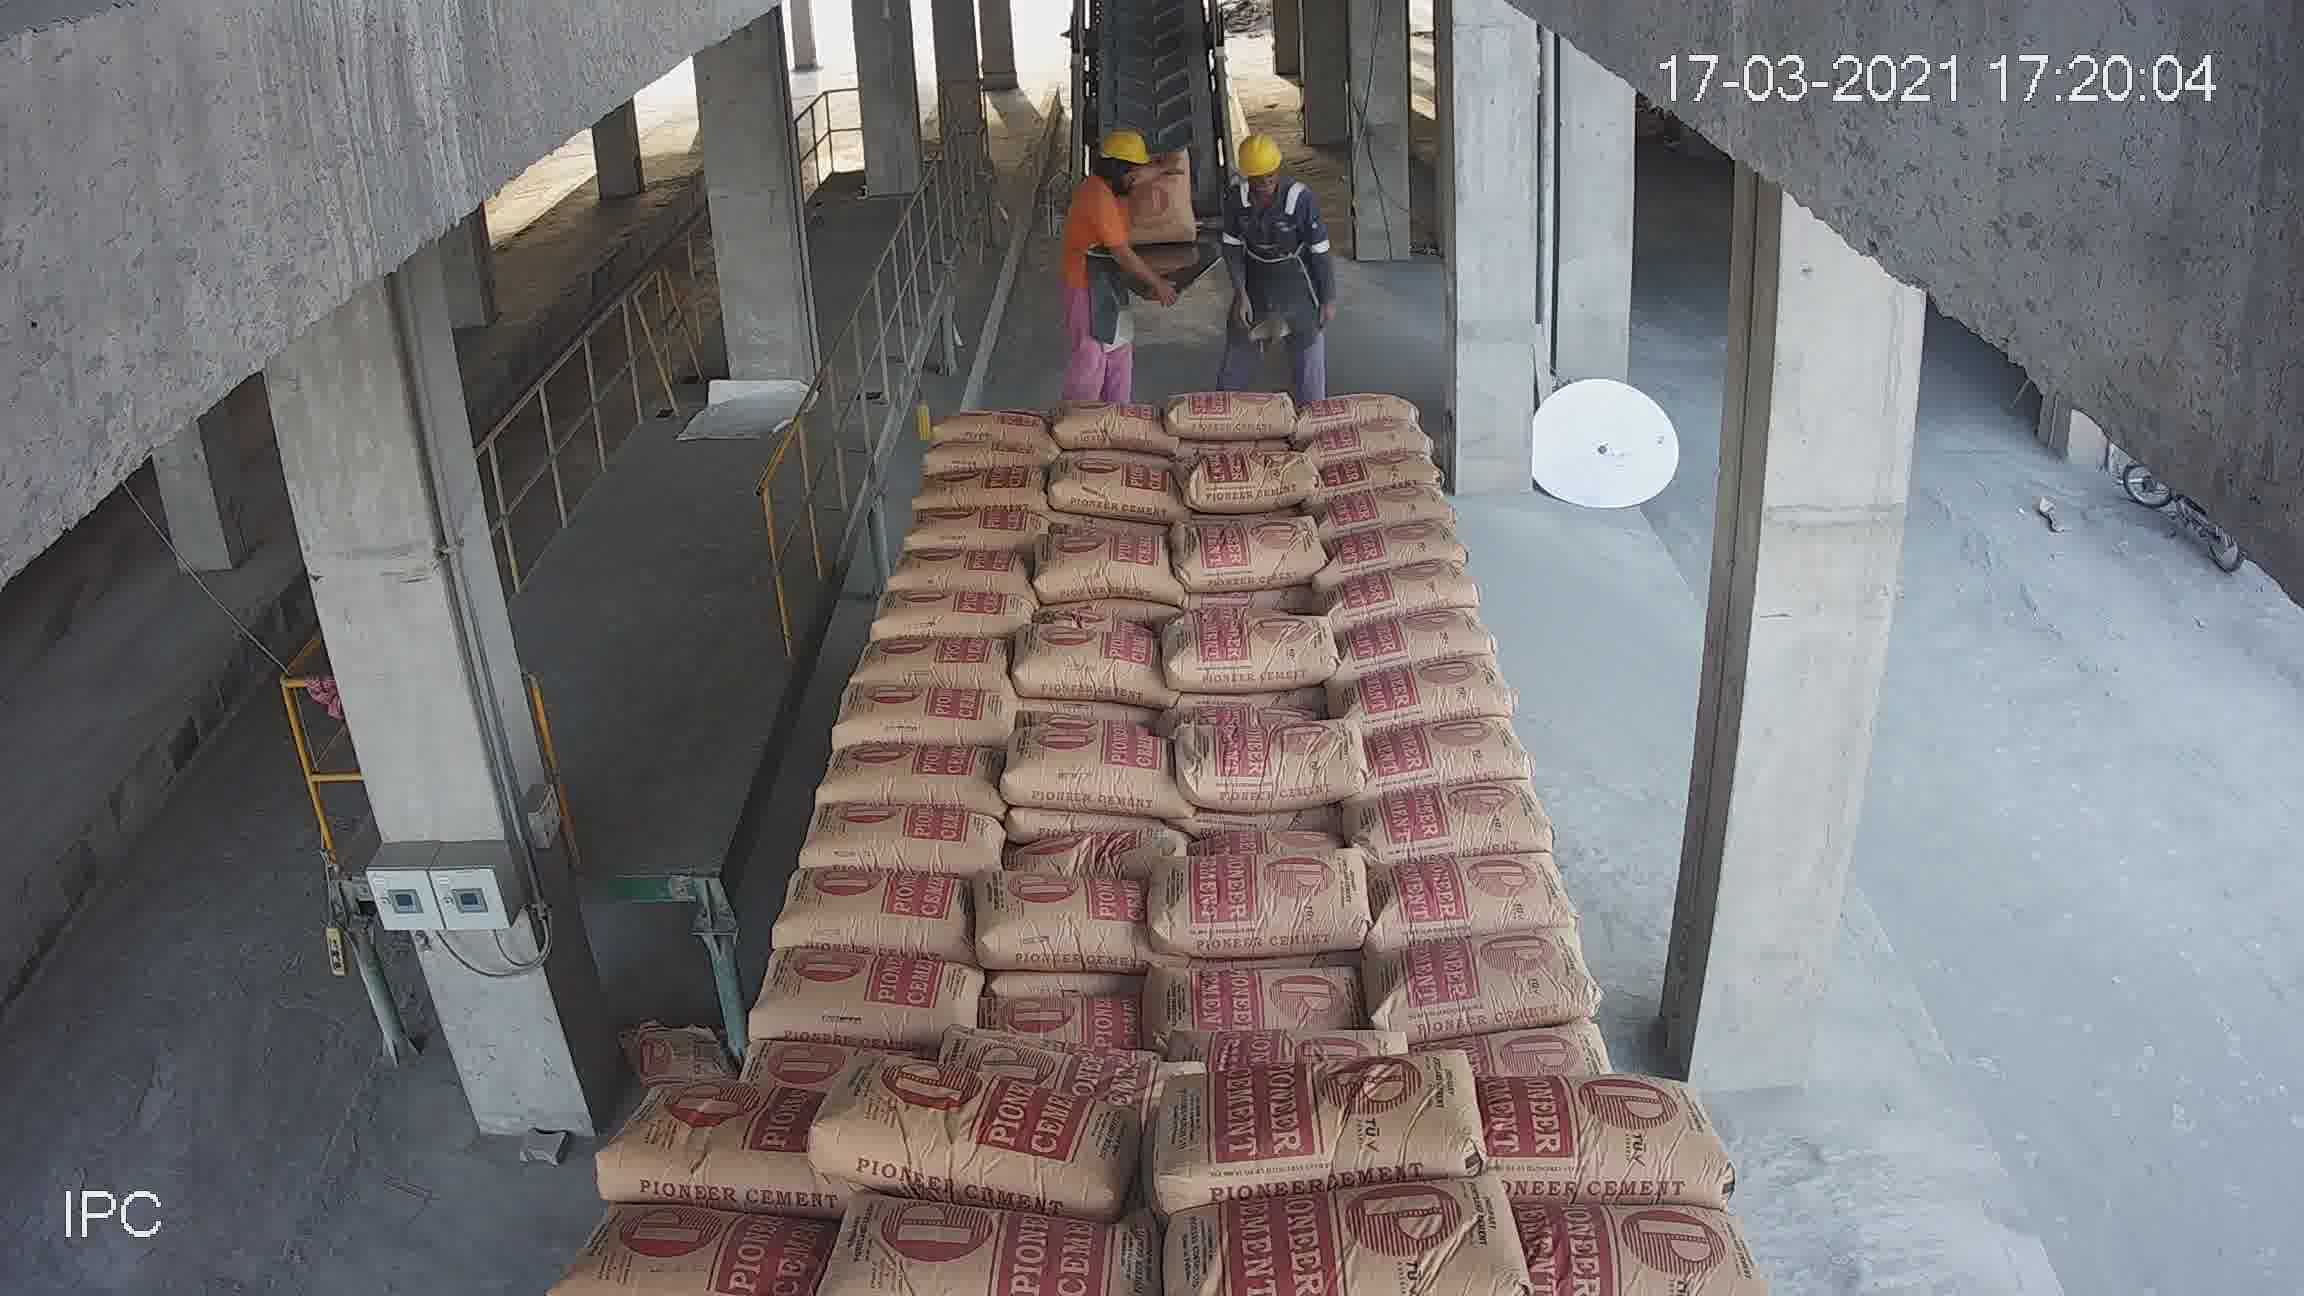bag: (1095, 358, 1245, 536), (1079, 17, 1218, 112)
bag_h: (1157, 1030, 1497, 1193), (1147, 1157, 1559, 1291), (809, 1044, 1146, 1196), (1147, 915, 1448, 1071), (1449, 1082, 1733, 1233), (786, 1198, 1154, 1294), (587, 1071, 824, 1217), (606, 949, 885, 1068), (517, 1199, 847, 1294), (1484, 1192, 1782, 1294), (880, 937, 1127, 1059), (1431, 954, 1654, 1070), (758, 859, 987, 953), (1388, 847, 1554, 948), (1381, 775, 1540, 859), (1412, 706, 1541, 782), (794, 802, 949, 866), (1146, 866, 1260, 948), (798, 737, 937, 801), (1143, 777, 1247, 856), (1405, 636, 1519, 707), (821, 677, 934, 737), (1364, 502, 1478, 559), (1347, 407, 1449, 464), (843, 635, 938, 684), (1393, 567, 1487, 612), (1304, 373, 1412, 413), (1317, 337, 1400, 386), (1367, 487, 1464, 525), (1313, 316, 1399, 345)
belt: (1006, 17, 1315, 677)
